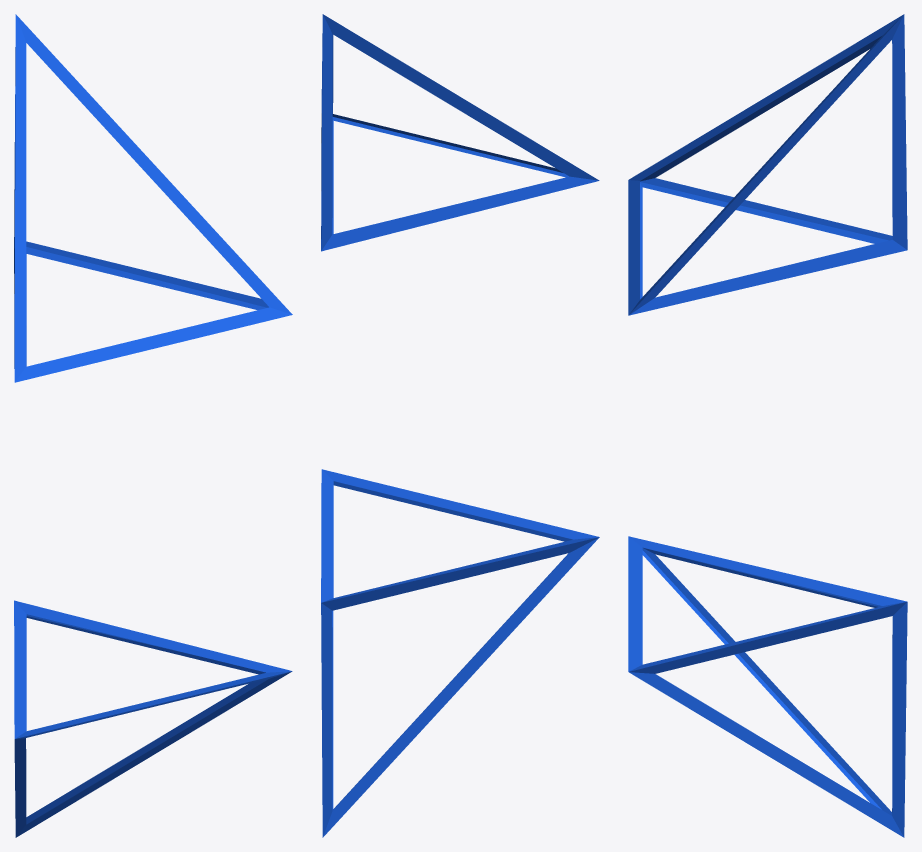
3 views of the same model, side by side, from view 1: azimuth 30°, elevation 25°; view 2: azimuth 150°, elevation 25°; view 3: azimuth 270°, elevation 25° (orthographic).
Parts seen in each view (by area): view 1: Circle; view 2: Circle; view 3: Circle.
Boxes of the visible parts, bbox=[...] form: Circle: bbox=[14, 14, 292, 837]; Circle: bbox=[321, 14, 599, 837]; Circle: bbox=[628, 14, 907, 837].
Size of the model in its own units: 2.77 by 7.84 by 2.41.
